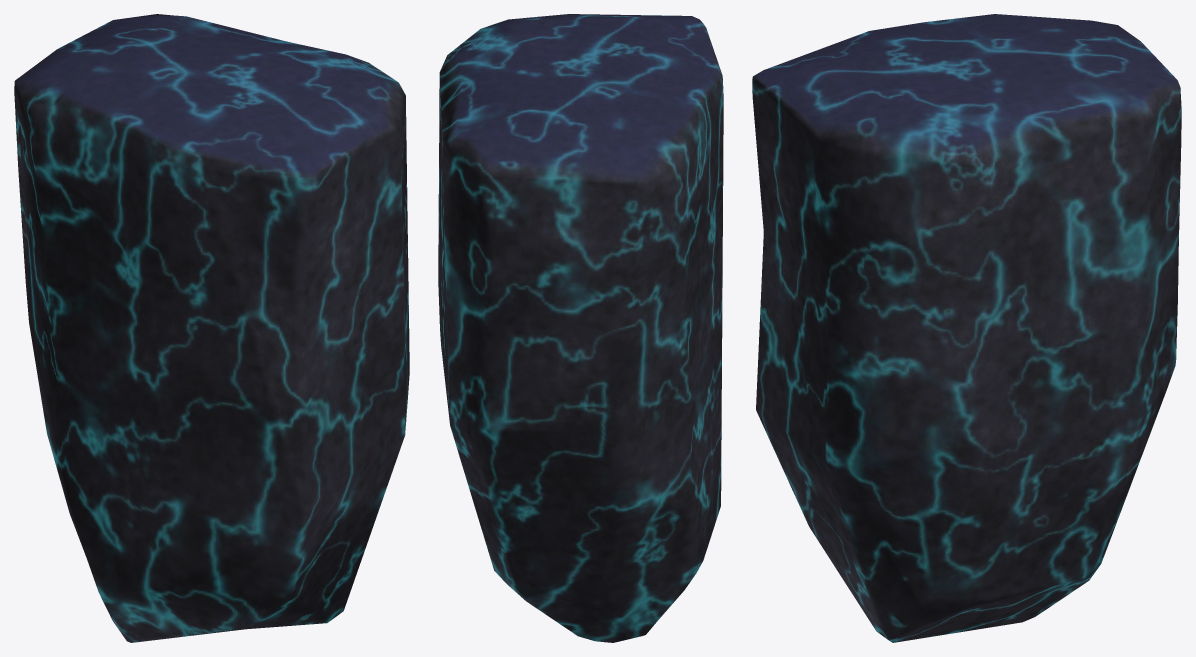
File: caos_stl_cliffrock_01d_v35.glb
3 renders of one model, left to right at view 1: azimuth 30°, elevation 25°; view 2: azimuth 150°, elevation 25°; view 3: azimuth 270°, elevation 25°, orthographic. The views are drawn at different scales.
Visible parts, largest first — view 1: caos_stl_cliffrock_01d; view 2: caos_stl_cliffrock_01d; view 3: caos_stl_cliffrock_01d.
Boxes of the visible parts, x1=… form: caos_stl_cliffrock_01d: x1=14, y1=14, x2=409, y2=642; caos_stl_cliffrock_01d: x1=438, y1=14, x2=723, y2=642; caos_stl_cliffrock_01d: x1=752, y1=14, x2=1181, y2=642.
Size of the model in its own units: 5.71 by 10.51 by 7.11.
Materials: 1 (1 with a texture image).
